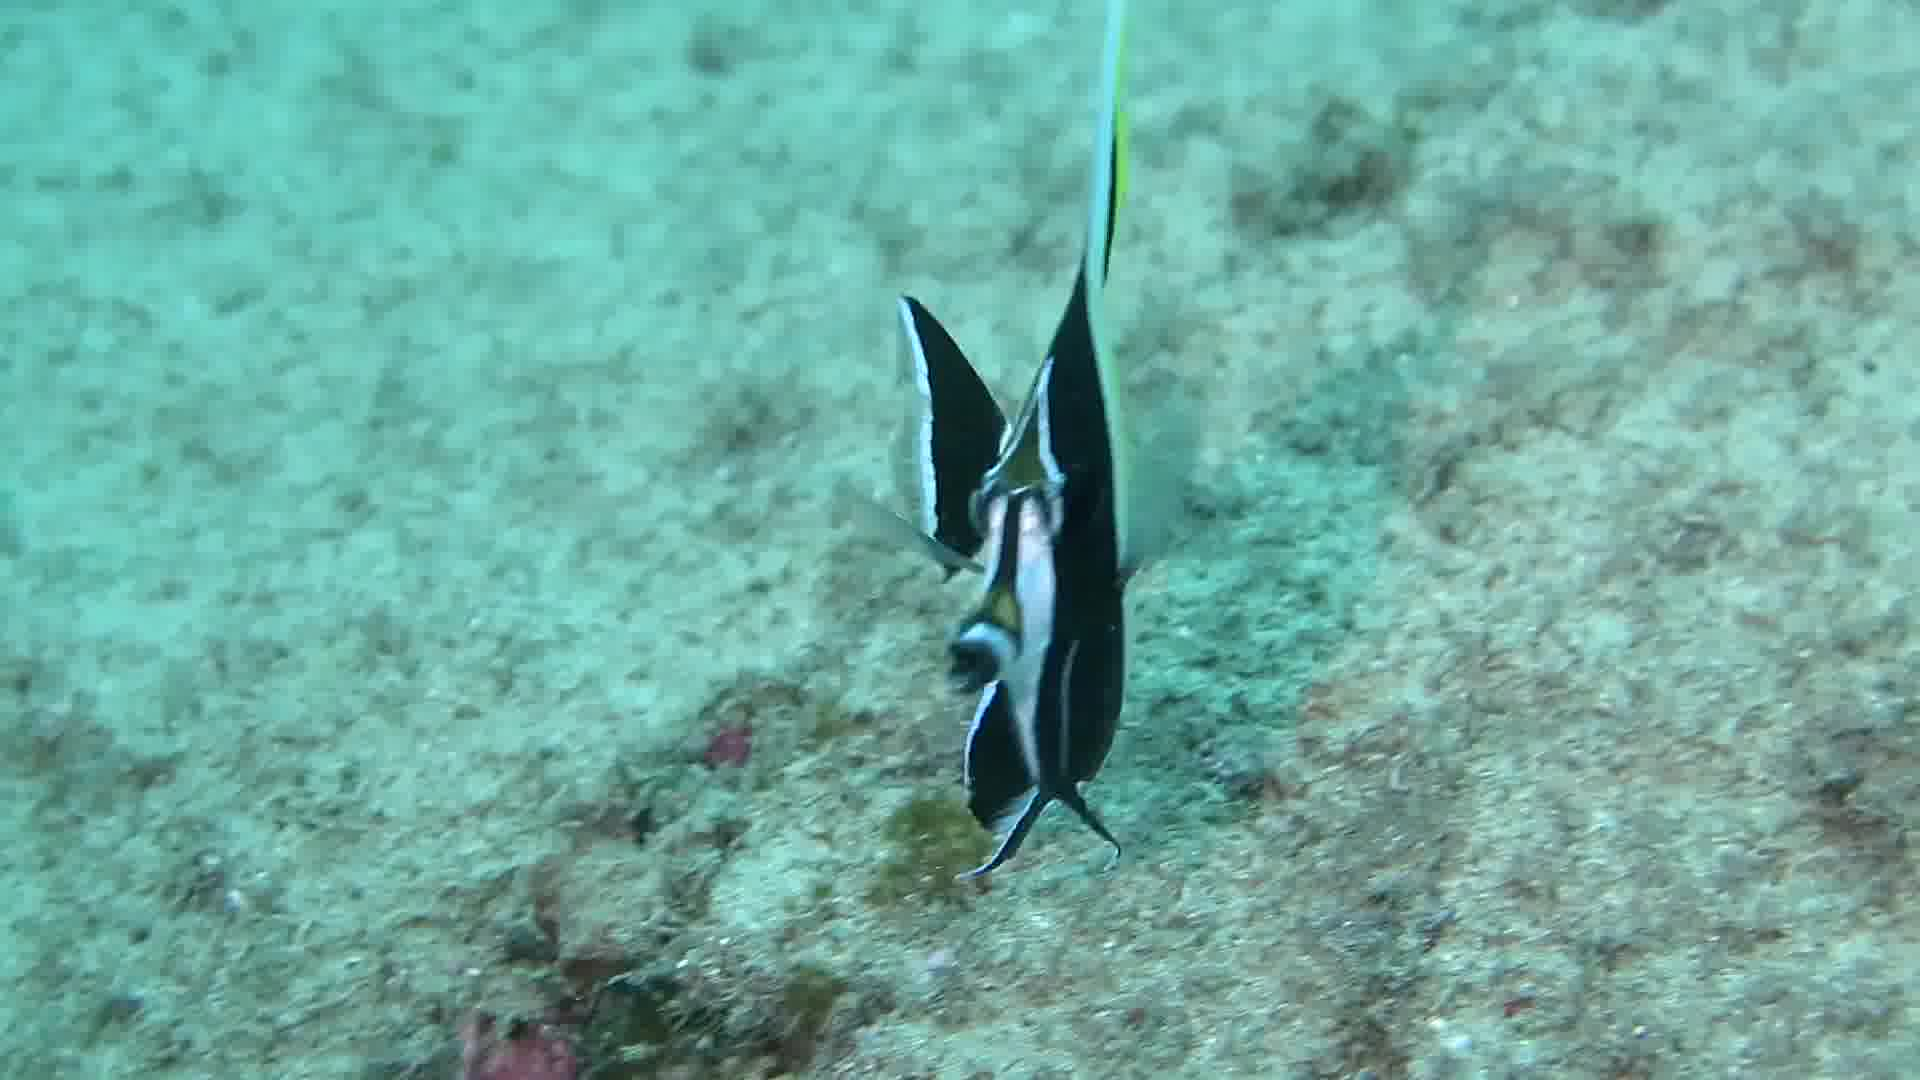Zanclus cornutus: (770, 225, 1232, 895)
